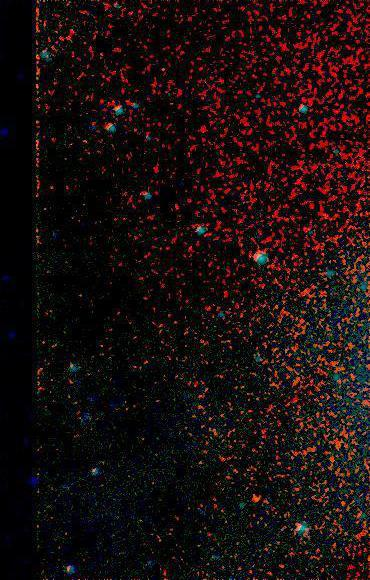star: (241, 482, 271, 512)
